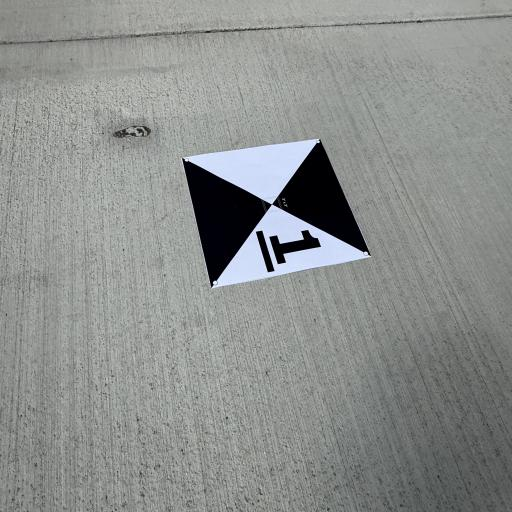target1: (183, 134, 374, 295)
